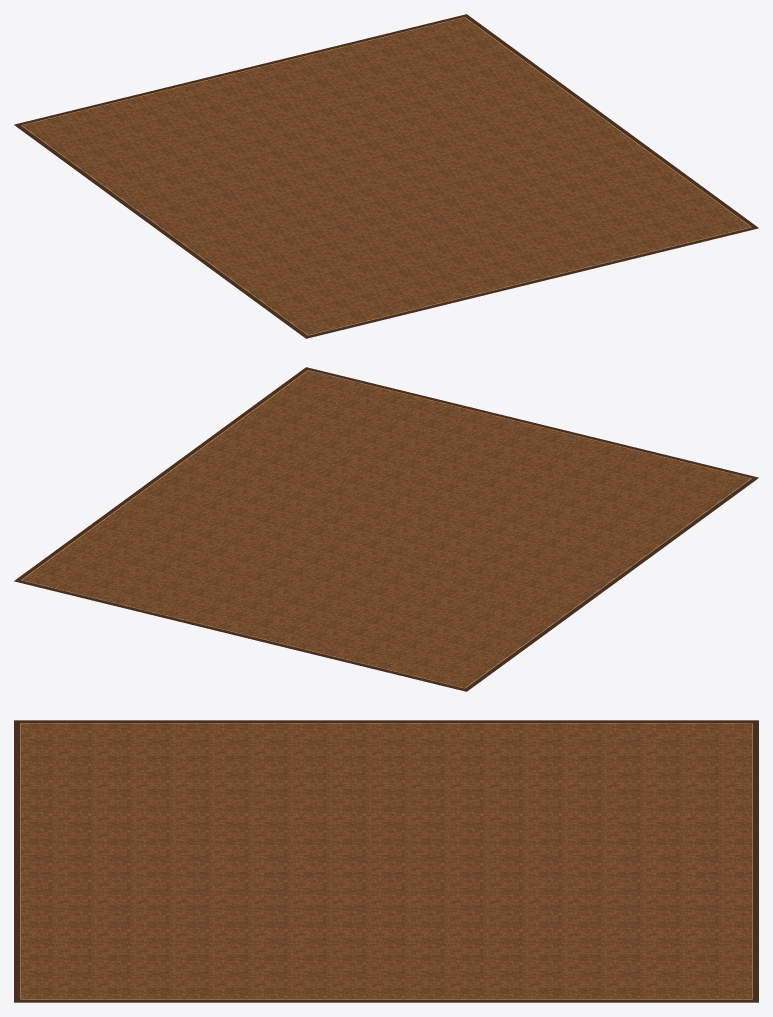
Rendered from kr_hall_floor.glb.
3 views of the same model, one above another, from view 1: azimuth 30°, elevation 25°; view 2: azimuth 150°, elevation 25°; view 3: azimuth 270°, elevation 25° (orthographic). The views are drawn at different scales.
Parts seen in each view (by area): view 1: kr_hall_floor_herring, kr_hall_floor_darkwood, vc_m8_r2; view 2: kr_hall_floor_herring, kr_hall_floor_darkwood, vc_m8_r2; view 3: kr_hall_floor_herring, kr_hall_floor_darkwood, vc_m8_r2.
Part boxes in pixels (x1,y1,x2,y2): kr_hall_floor_herring: (16,17,758,338); kr_hall_floor_darkwood: (14,14,758,338); vc_m8_r2: (21,17,750,335); kr_hall_floor_herring: (16,370,758,691); kr_hall_floor_darkwood: (14,367,758,691); vc_m8_r2: (22,370,751,688); kr_hall_floor_herring: (14,723,757,1002); kr_hall_floor_darkwood: (14,720,758,1002); vc_m8_r2: (20,723,752,999).
Bounding box in the file's own units: 68 × 0.052 × 76.
Materials: 3 (2 with a texture image).
